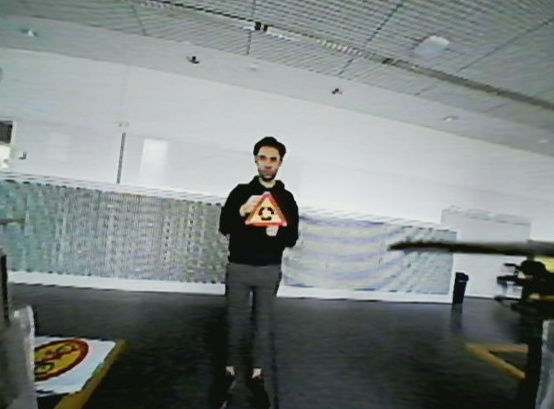roundabout_warning: (243, 189, 291, 230)
